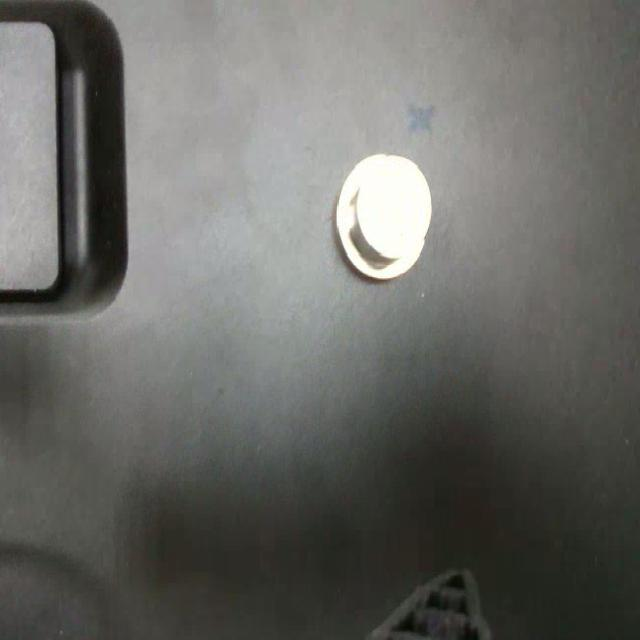sensor: (335, 150, 433, 280)
